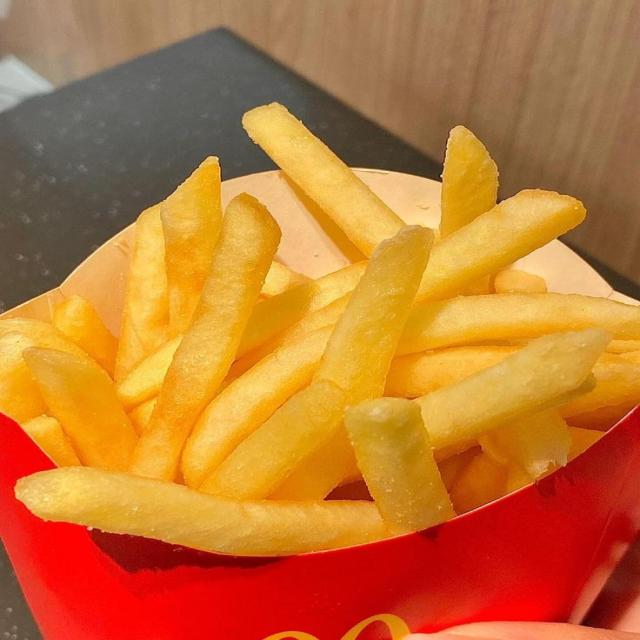potato fries: (0, 104, 639, 555), (131, 194, 280, 480), (16, 468, 388, 555), (243, 104, 404, 255), (182, 328, 331, 486), (415, 329, 610, 448), (315, 227, 433, 403), (316, 227, 433, 403), (417, 190, 586, 300), (200, 380, 346, 499), (230, 263, 366, 379), (398, 293, 639, 354), (345, 398, 453, 533), (23, 348, 137, 469), (238, 262, 366, 356), (161, 158, 221, 335), (229, 293, 350, 379), (115, 205, 168, 379), (386, 347, 519, 397), (269, 429, 359, 501), (440, 126, 498, 237), (479, 410, 571, 479), (53, 295, 118, 375), (560, 355, 639, 417), (116, 336, 181, 411), (0, 333, 47, 423), (450, 453, 508, 514), (0, 318, 86, 356), (22, 415, 80, 467), (567, 400, 637, 430), (439, 447, 479, 492), (261, 261, 309, 297), (494, 269, 546, 293), (568, 428, 604, 460), (129, 398, 156, 435)
